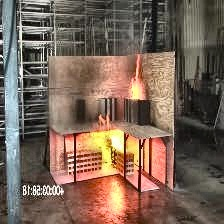fire: (87, 122, 131, 169), (122, 62, 145, 112)
